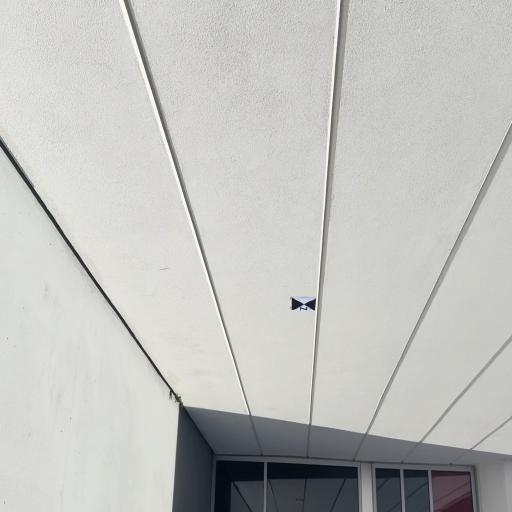target7: (291, 296, 316, 312)
